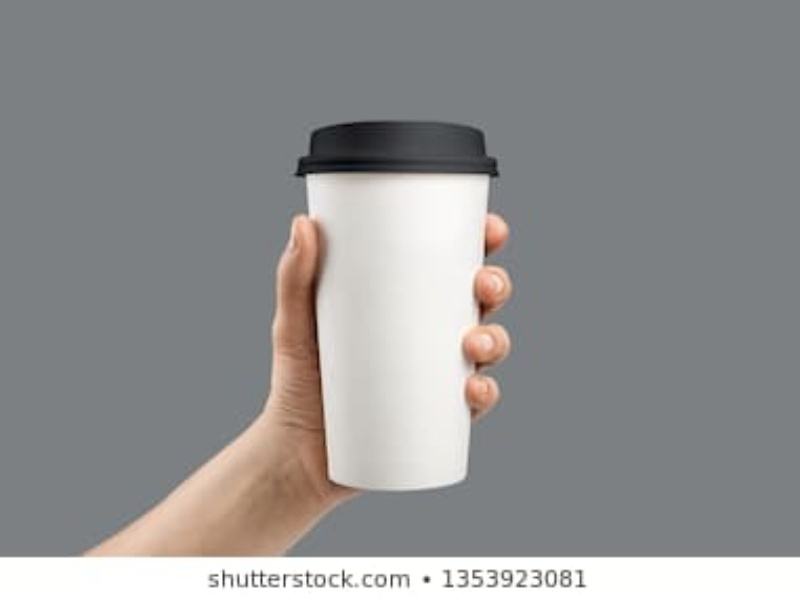coffee-lid: (296, 121, 501, 180)
plastic-cup: (298, 119, 496, 494)
